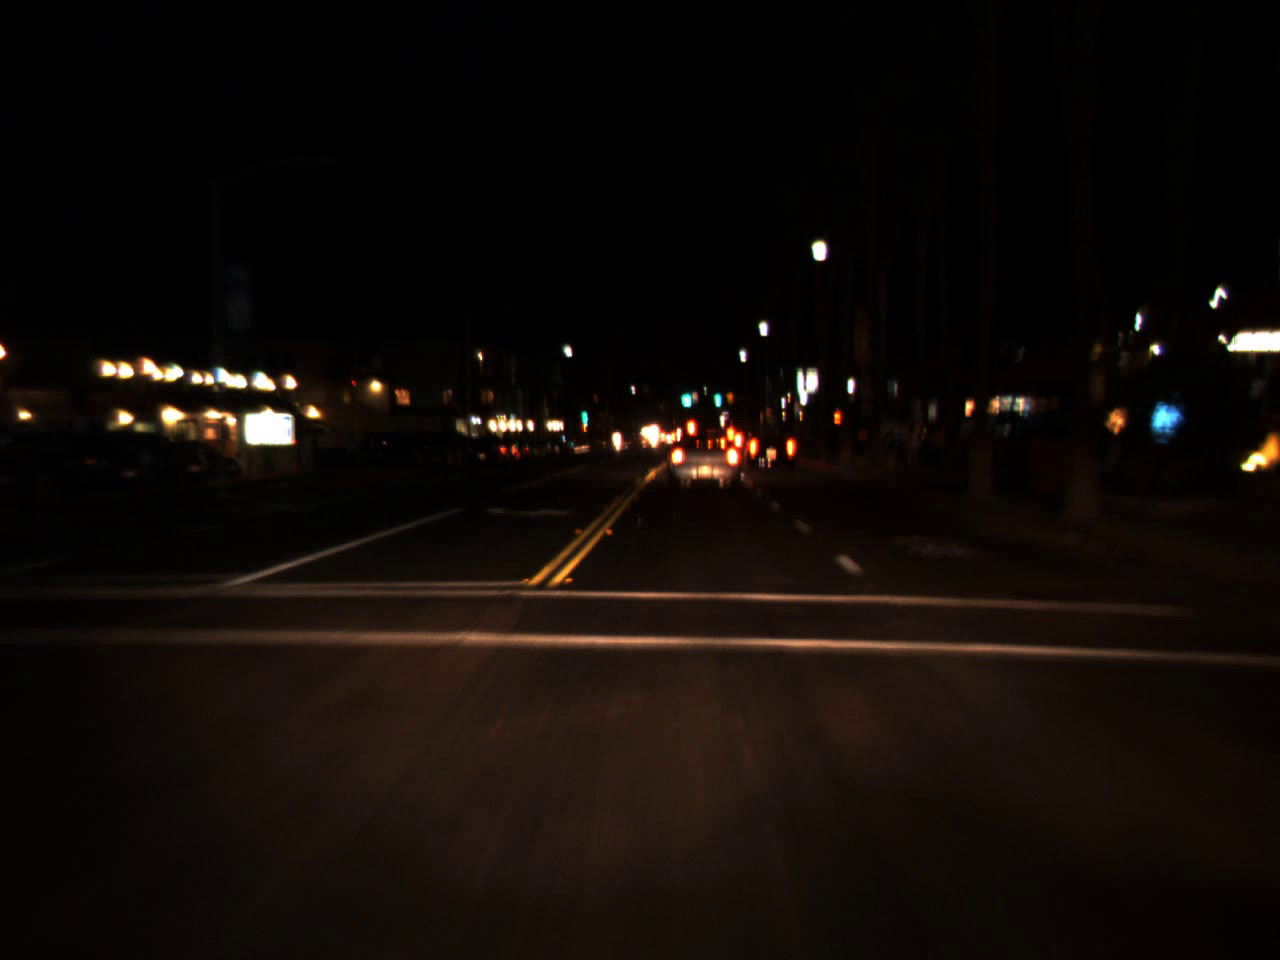go: (677, 376, 693, 412), (579, 397, 588, 427), (712, 380, 721, 407)
